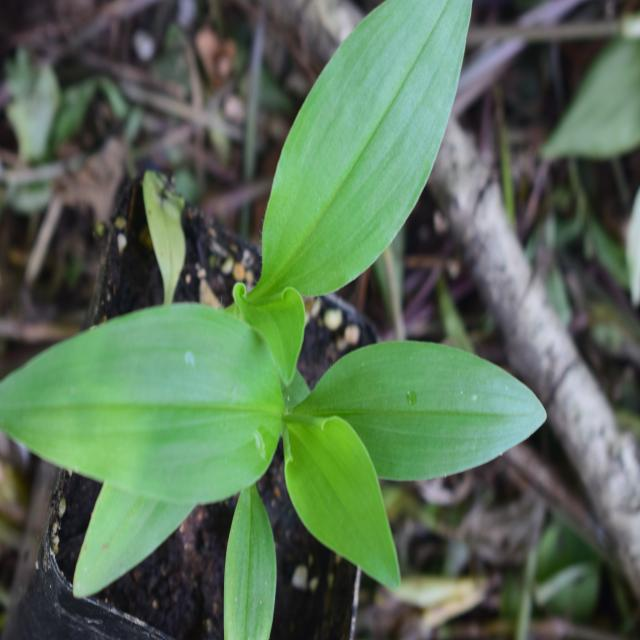Common Dayflower: (8, 288, 518, 594)
